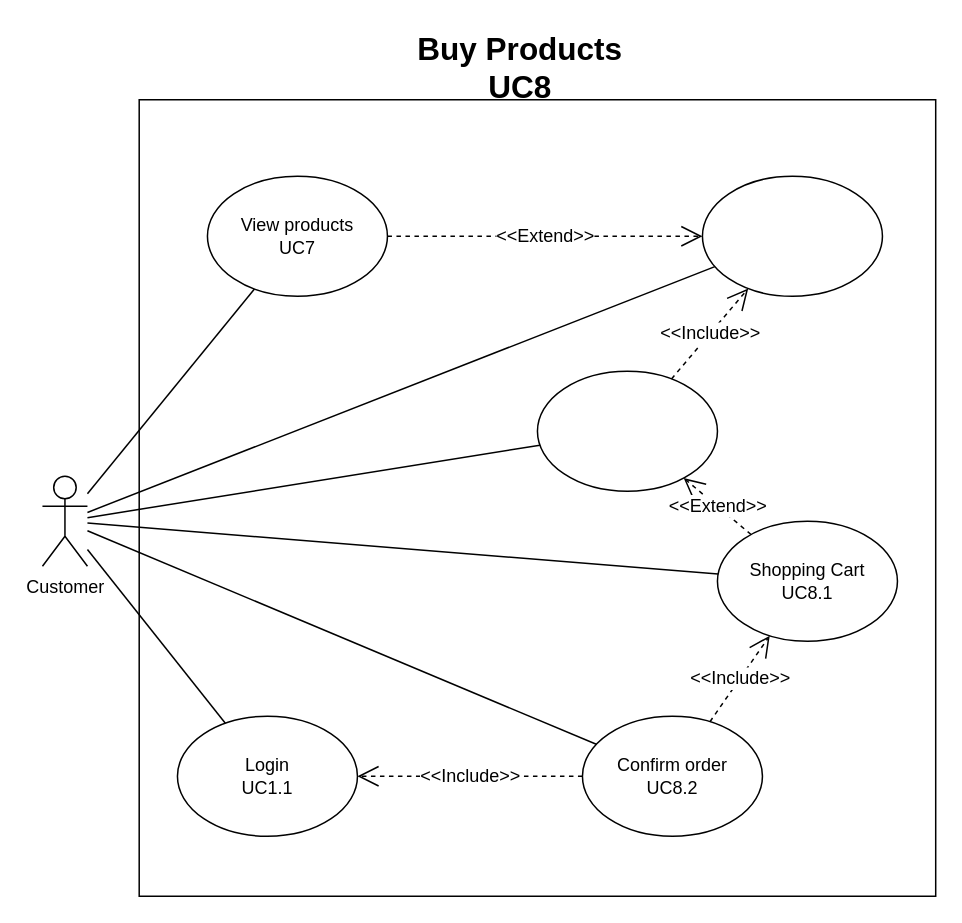
This 962x923 diagram has some shape labels left out. The shapes that lost their labels are listed below. From the top down, each one's centre as x and y in pixels, then its label:
At point 791,235: "View product detail UC7.1".
At point 626,430: "Add product to cart UC8.3".
